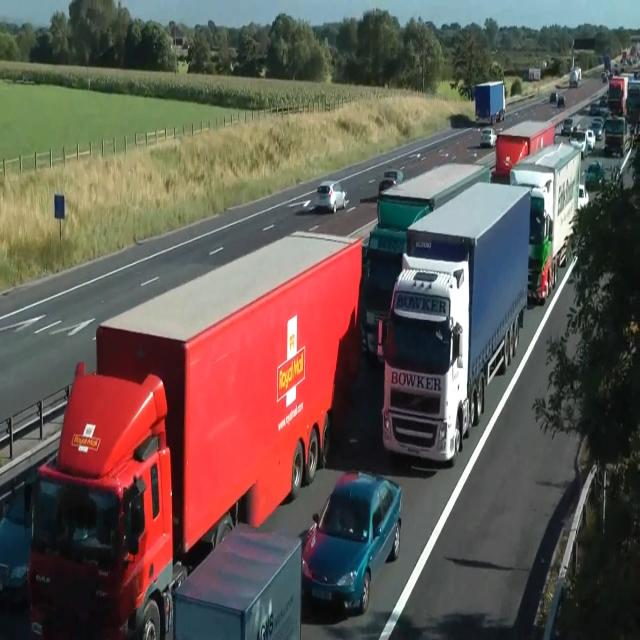bus: (298, 468, 402, 616), (0, 481, 33, 602), (314, 182, 346, 214), (378, 167, 404, 195), (583, 160, 605, 190), (568, 129, 588, 158), (479, 127, 496, 148), (577, 184, 589, 211), (589, 118, 603, 140), (549, 92, 565, 106), (586, 128, 596, 150), (561, 117, 573, 135), (14, 76, 34, 84), (557, 93, 565, 107)
car: (26, 230, 364, 638), (568, 38, 582, 88)
jeep: (27, 359, 175, 638)
minibus: (381, 180, 531, 465), (358, 162, 492, 364), (171, 522, 303, 639), (509, 140, 582, 306), (494, 119, 556, 180), (608, 74, 640, 124), (474, 80, 506, 124), (602, 116, 628, 156), (569, 66, 581, 88), (528, 67, 540, 81)
